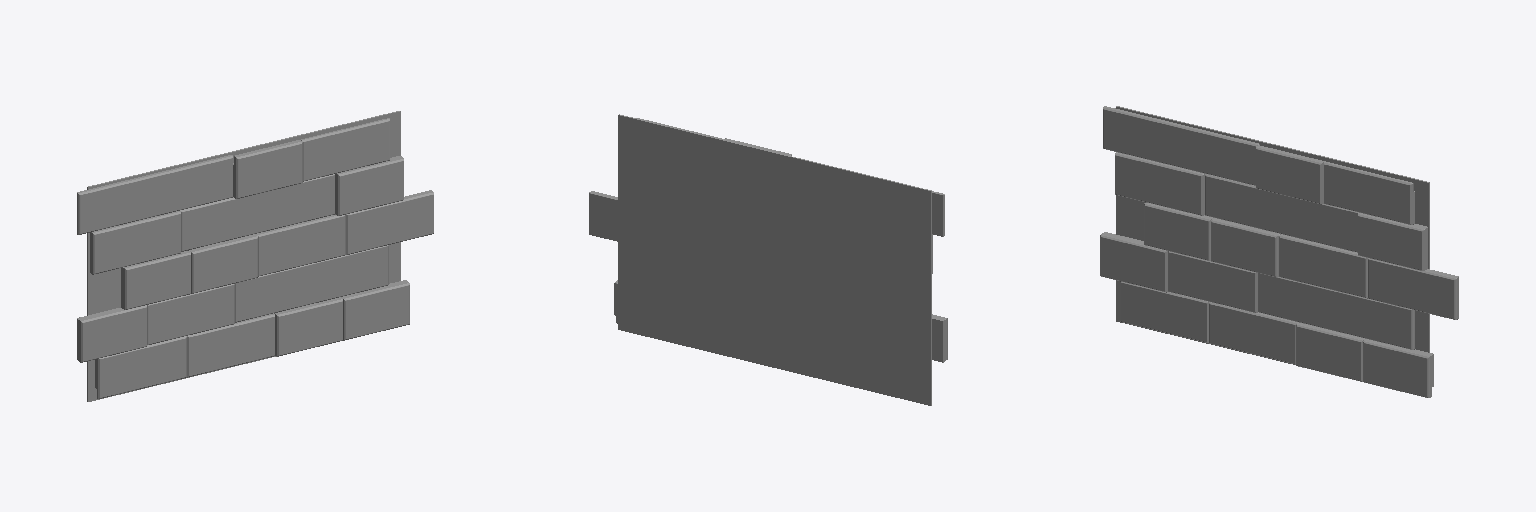
File: wall.obj
The picture shows the model from 3 angles: view 1: azimuth 30°, elevation 25°; view 2: azimuth 150°, elevation 25°; view 3: azimuth 330°, elevation 25°; orthographic projection.
Visible parts, largest first — view 1: Box072, Box086, Box081, Box085, Box077, Box079, Box076, Box074, Box080, Box071, Box075, Box083 (+6 smaller); view 2: Box085, Box071, Box083, Box072; view 3: Box072, Box081, Box086, Box085, Box074, Box077, Box071, Box079, Box080, Box076, Box075, Box082 (+6 smaller).
Part boxes in pixels (bbox=[...]): Box072: bbox=[77, 155, 232, 234]; Box086: bbox=[180, 174, 334, 251]; Box081: bbox=[235, 245, 388, 322]; Box085: bbox=[87, 111, 400, 401]; Box077: bbox=[90, 211, 180, 274]; Box079: bbox=[256, 215, 345, 276]; Box076: bbox=[95, 336, 186, 398]; Box074: bbox=[301, 118, 389, 181]; Box080: bbox=[187, 313, 274, 377]; Box071: bbox=[346, 190, 433, 254]; Box075: bbox=[147, 284, 234, 344]; Box083: bbox=[77, 305, 146, 362]; Box085: bbox=[618, 114, 931, 405]; Box071: bbox=[589, 191, 617, 241]; Box083: bbox=[932, 314, 947, 362]; Box072: bbox=[932, 191, 944, 236]; Box072: bbox=[1103, 106, 1259, 185]; Box081: bbox=[1258, 273, 1414, 349]; Box086: bbox=[1205, 174, 1358, 252]; Box085: bbox=[1116, 106, 1429, 364]; Box074: bbox=[1324, 161, 1414, 224]; Box077: bbox=[1115, 152, 1204, 215]; Box071: bbox=[1368, 258, 1458, 319]; Box079: bbox=[1279, 234, 1367, 298]; Box080: bbox=[1209, 302, 1298, 364]; Box076: bbox=[1120, 281, 1208, 342]; Box075: bbox=[1168, 251, 1257, 312]; Box082: bbox=[1363, 339, 1433, 397].
Size of the model in its own units: 801 by 463 by 23.71.